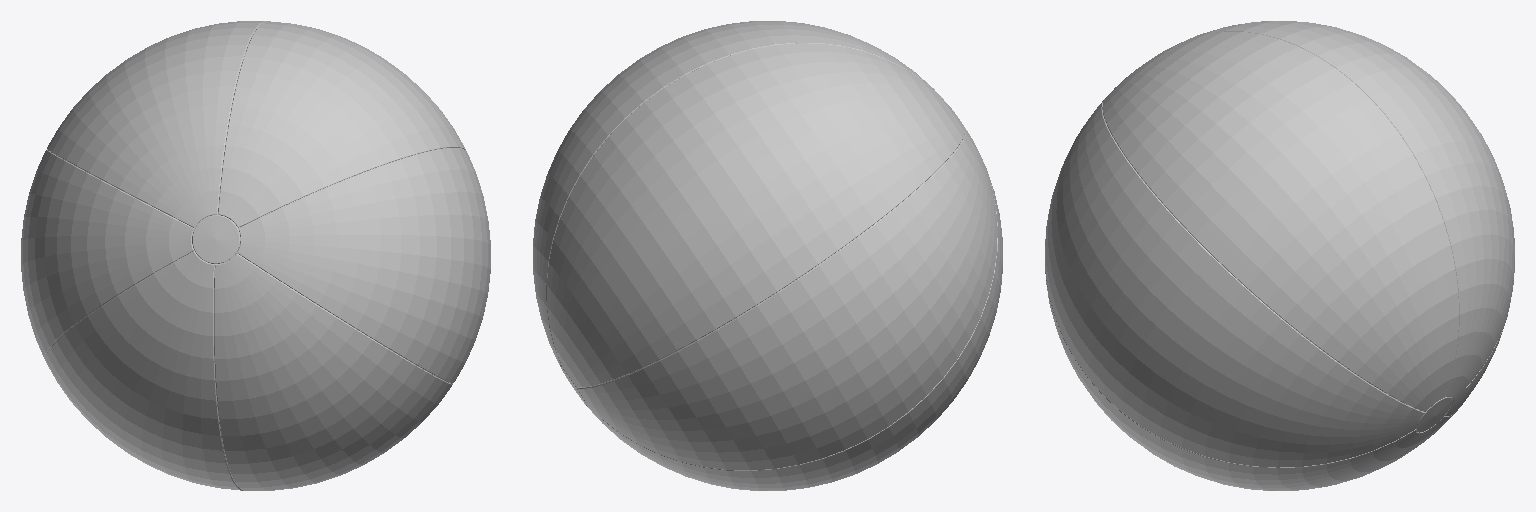
File: Bola_de_Praia.obj
The picture shows the model from 3 angles: view 1: azimuth 30°, elevation 25°; view 2: azimuth 150°, elevation 25°; view 3: azimuth 270°, elevation 25°; orthographic projection.
Parts seen in each view (by area): view 1: beachball:beachball; view 2: beachball:beachball; view 3: beachball:beachball.
Boxes of the visible parts, <box> form: beachball:beachball: <box>21,21,490,490</box>; beachball:beachball: <box>533,21,1002,490</box>; beachball:beachball: <box>1045,21,1514,490</box>.
Size of the model in its own units: 0.6835 by 0.6835 by 0.6839.